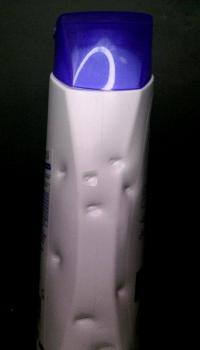dent_unacceptable: (75, 164, 119, 195), (45, 243, 77, 280), (78, 198, 112, 222), (52, 160, 78, 191), (112, 176, 144, 201), (61, 313, 107, 330), (109, 280, 136, 302), (89, 336, 128, 350), (103, 152, 130, 172)
